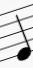note: (12, 6, 32, 63)
